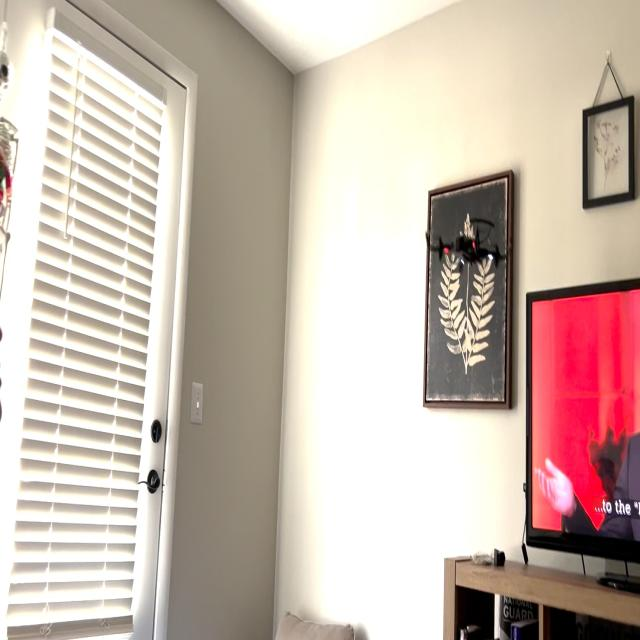drone: (422, 195, 510, 278)
